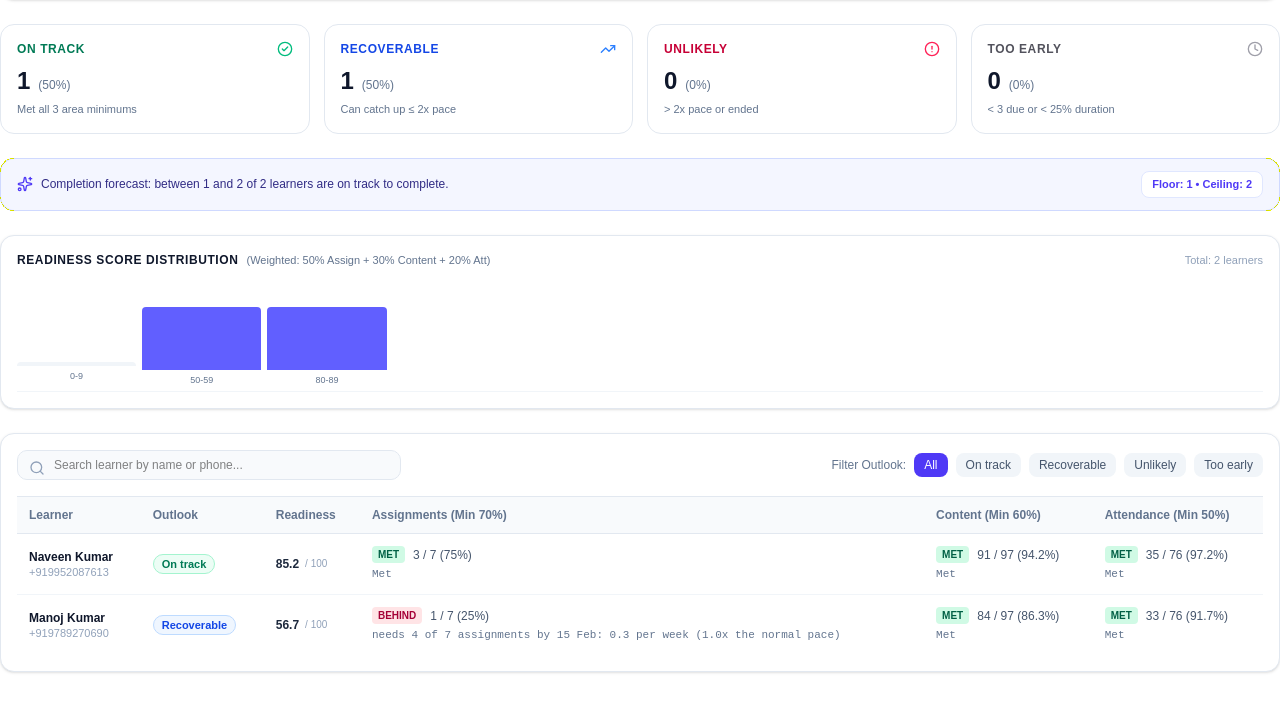
Test: Stage 4: Completion Forecast UI Tests › filters learners by search input
(page scrolled)
Expected: the text "Naveen Kumar" is shown, [29,550,113,564]
Type "Manoj" into the field with placeholder "Search learner by name or phone...". click: x=209, y=465
box: [17,450,401,480]
(page scrolled)
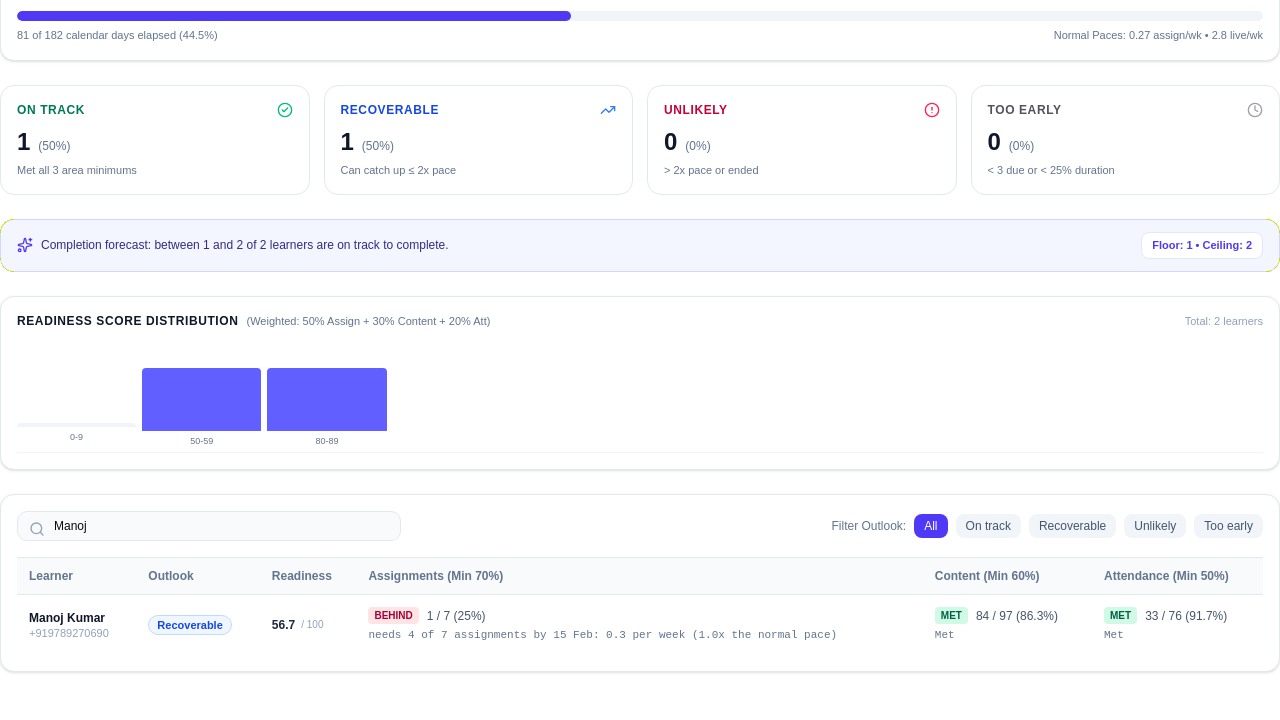
Expected: the text "Manoj Kumar" is shown, [29,611,105,625]
Result: the text "Naveen Kumar" is gone
